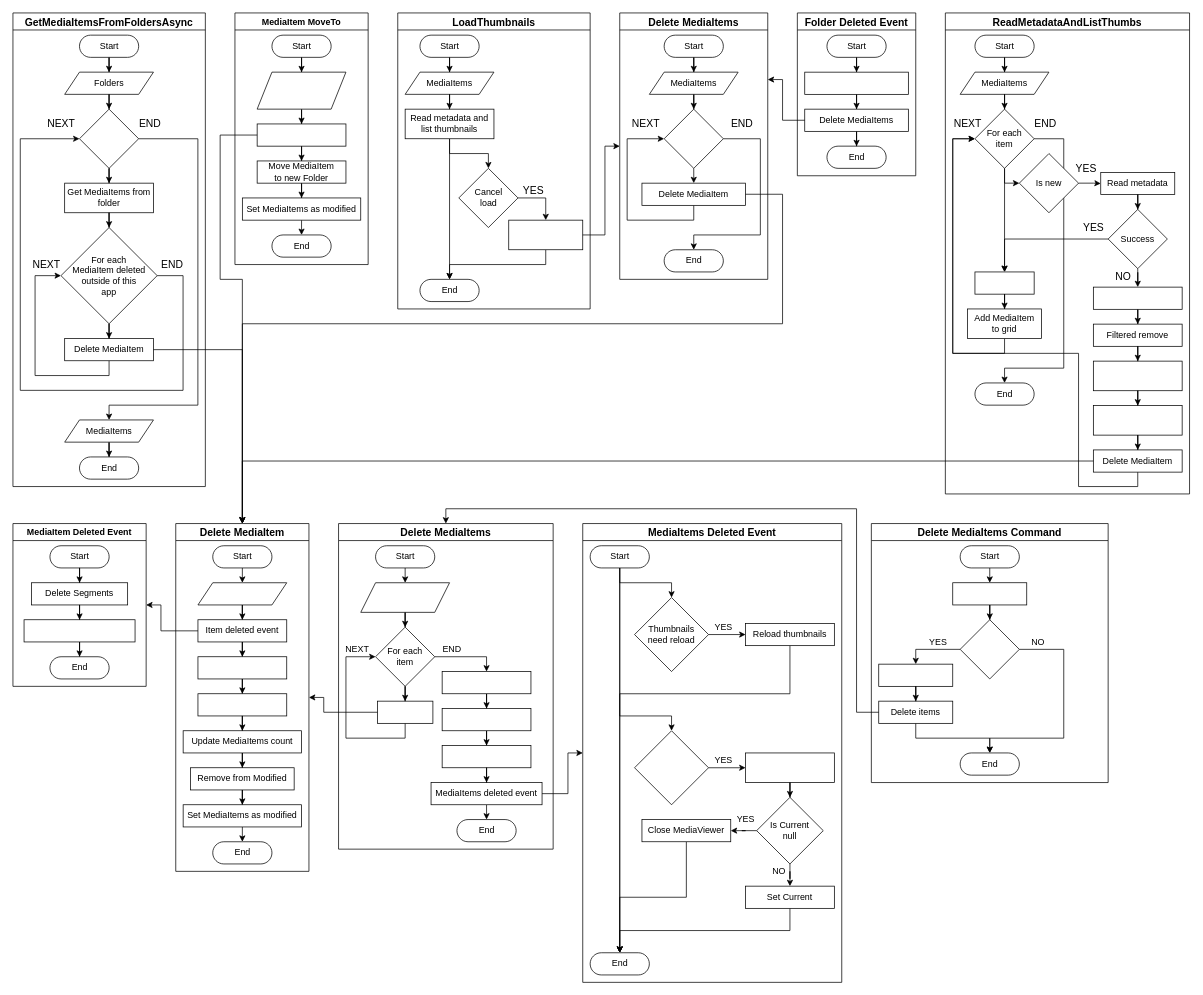
This 1203x995 diagram has some shape labels left out. The shapes that lost their labels are listed below. From the top down, each one's centre as x and y in pixels, then its label:
At [301,90]: "MediaItem Folder FileName".
At [856,82]: "Delete Favorite Folder".
At [109,138]: "For each folder".
At [301,134]: "Delete existing MediaItem if exists".
At [693,138]: "For each MediaItem".
At [545,234]: "Delete new MediaItems".
At [1004,282]: "SetInfoBox".
At [1137,297]: "Loaded remove".
At [1137,375]: "Filtered Changed Event".
At [1137,420]: "Update Position Slash Count".
At [242,593]: "Item".
At [405,597]: "Items New current".
At [989,593]: "Get items".
At [79,630]: "Remove from thumbnails".
At [989,649]: "Confirmation".
At [242,667]: "Remove from Folder".
At [486,682]: "Delete from FS".
At [915,674]: "Get new current".
At [242,704]: "Remove from DB".
At [405,711]: "Delete item".
At [486,719]: "Delete from cache FS".
At [486,756]: "Set new current".
At [671,767]: "MediaViewer is active".
At [789,767]: "Remove item from MediaViewer".
